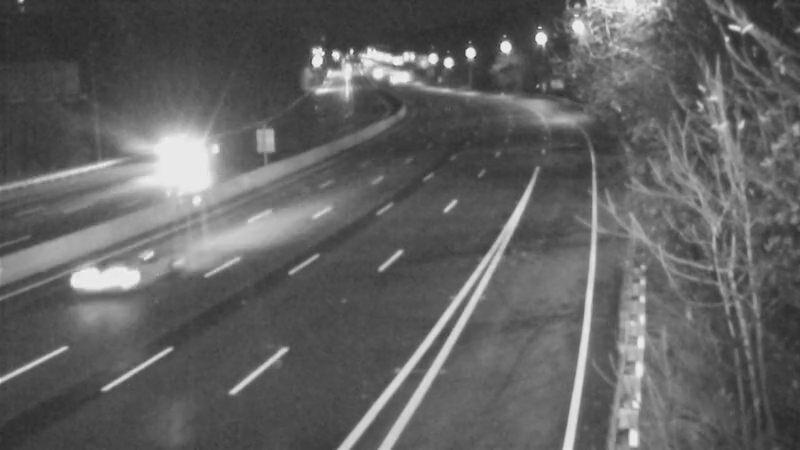vehicle: (70, 233, 150, 313), (155, 122, 235, 202), (145, 111, 225, 191), (367, 53, 417, 103)
